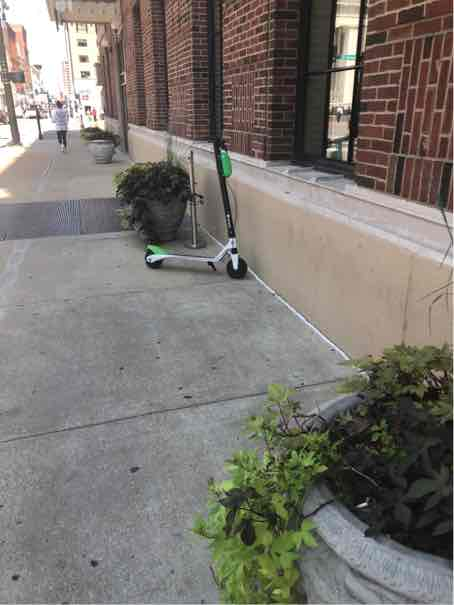scooter: (133, 121, 246, 292)
